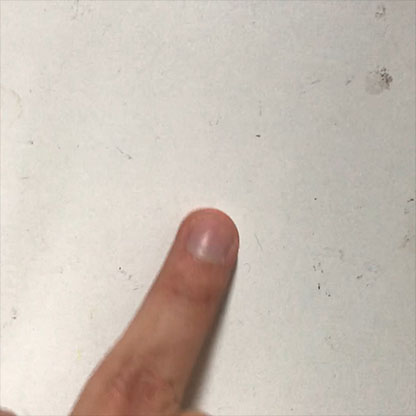fingertip: (181, 199, 247, 280)
